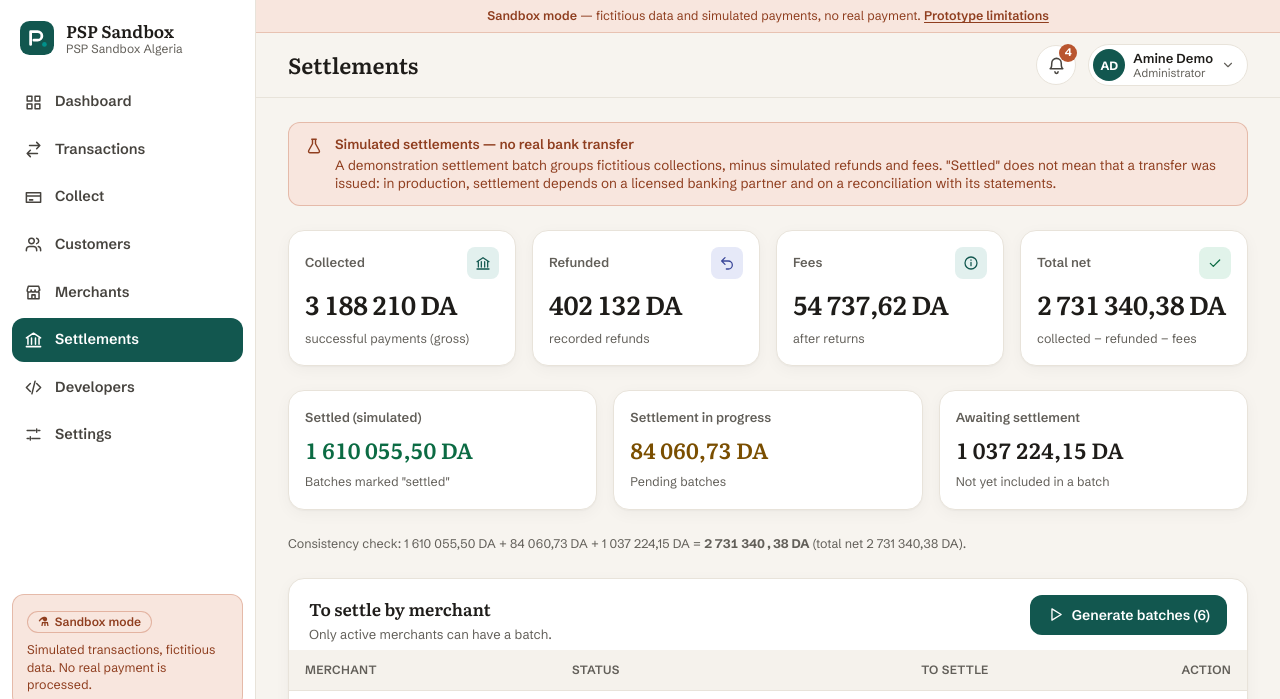
Test: settlements, roles and settings › the Operator role has no access to settlement actions or to the reset
Click the button with aria-label "Profile: Amine Demo" at (1168, 65), box [1088,44,1248,86]
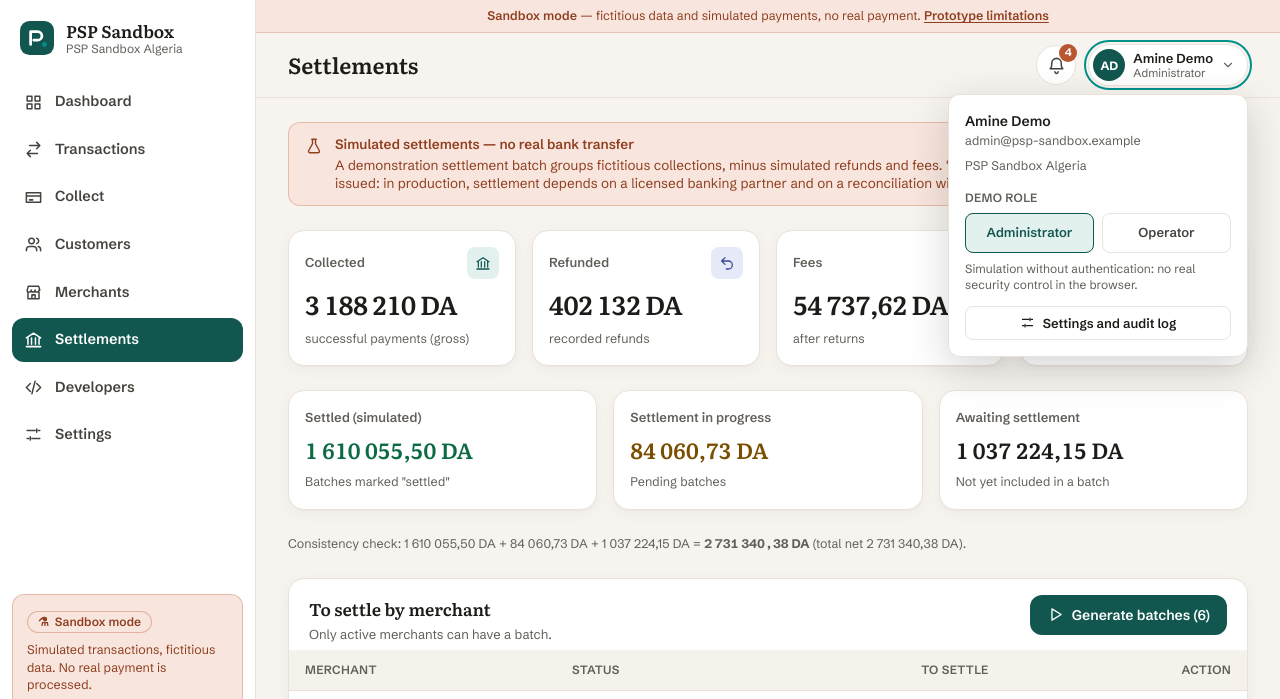
Click the button "Operator" at (1166, 233), box [1102,213,1231,252]
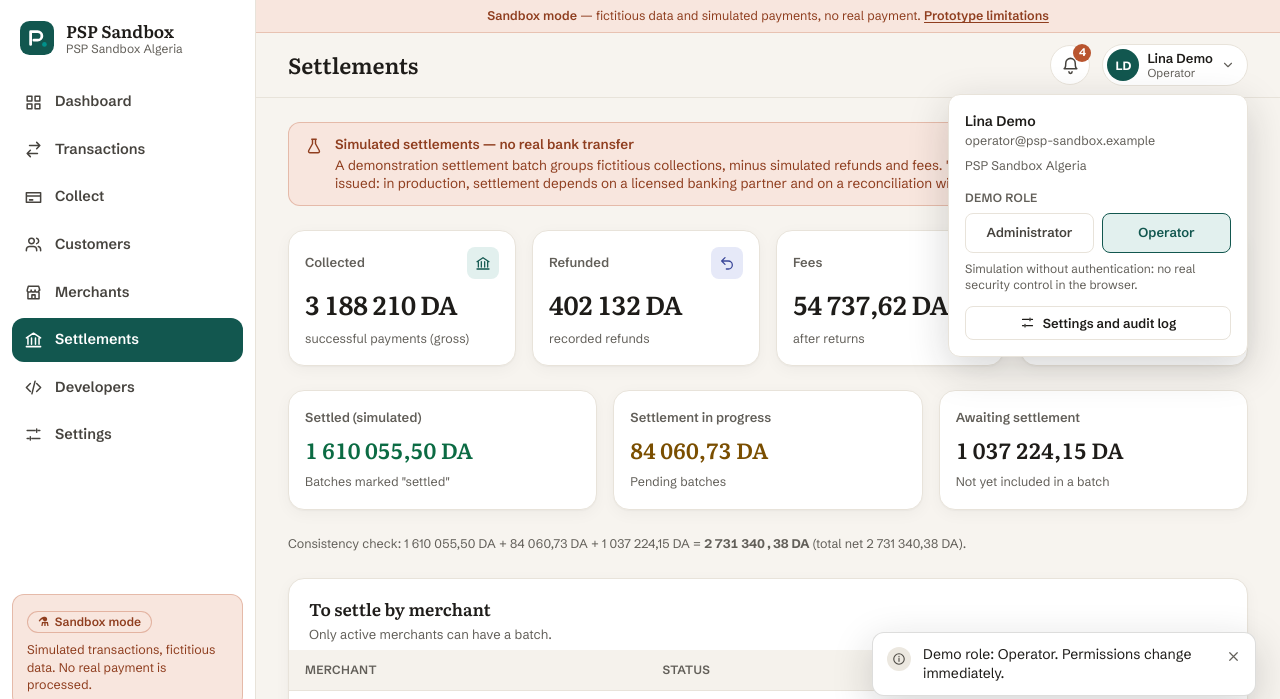
Result: the button "Generate batches" is gone
